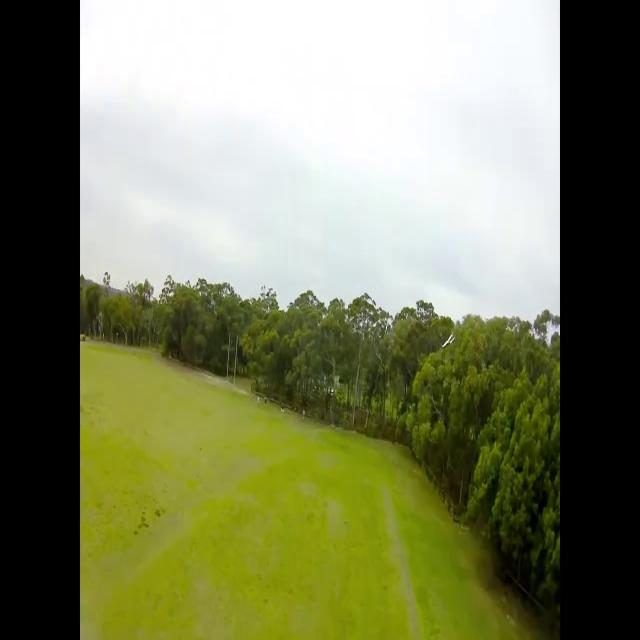iha: (446, 332, 451, 347)
